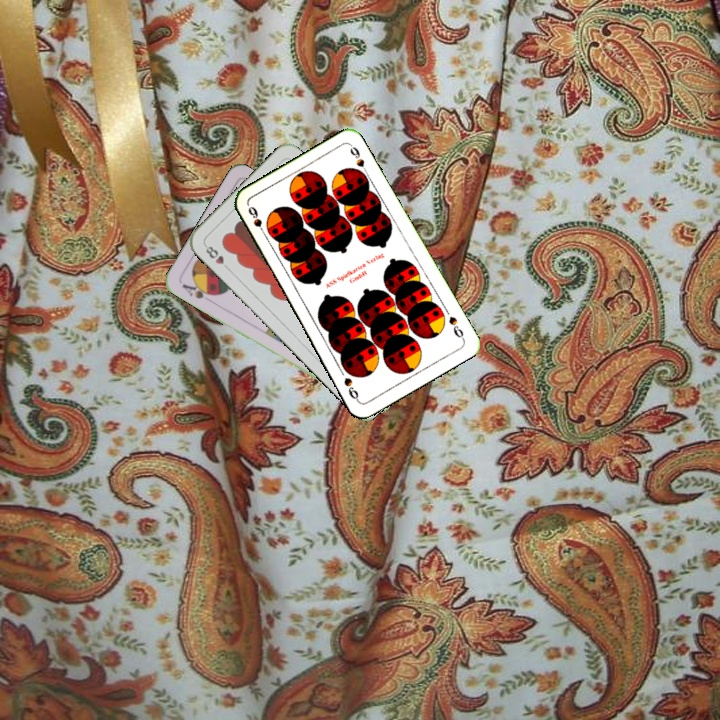H8: (201, 241, 233, 273)
S9: (244, 202, 269, 240), (444, 312, 467, 343)
SA: (178, 279, 217, 301)
